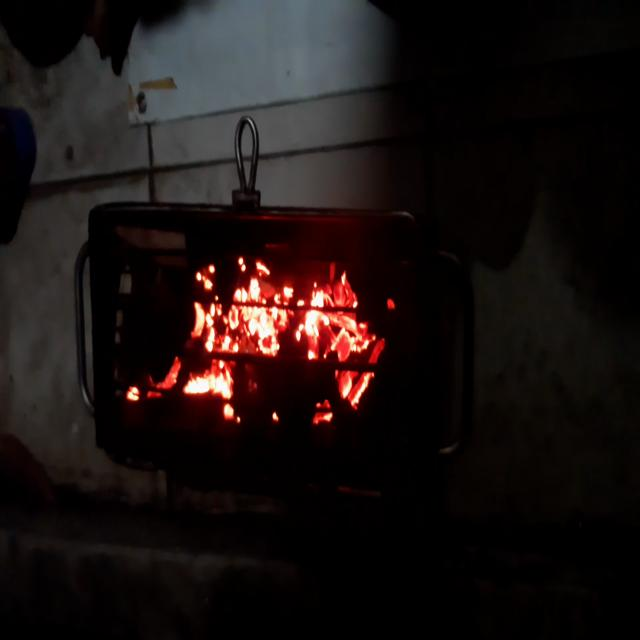Fire: (112, 250, 404, 450)
